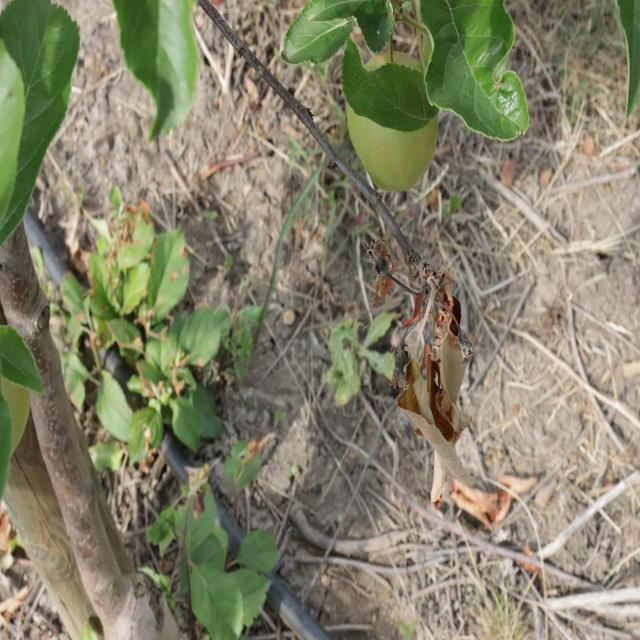-FireBlight-: (375, 244, 512, 518)
